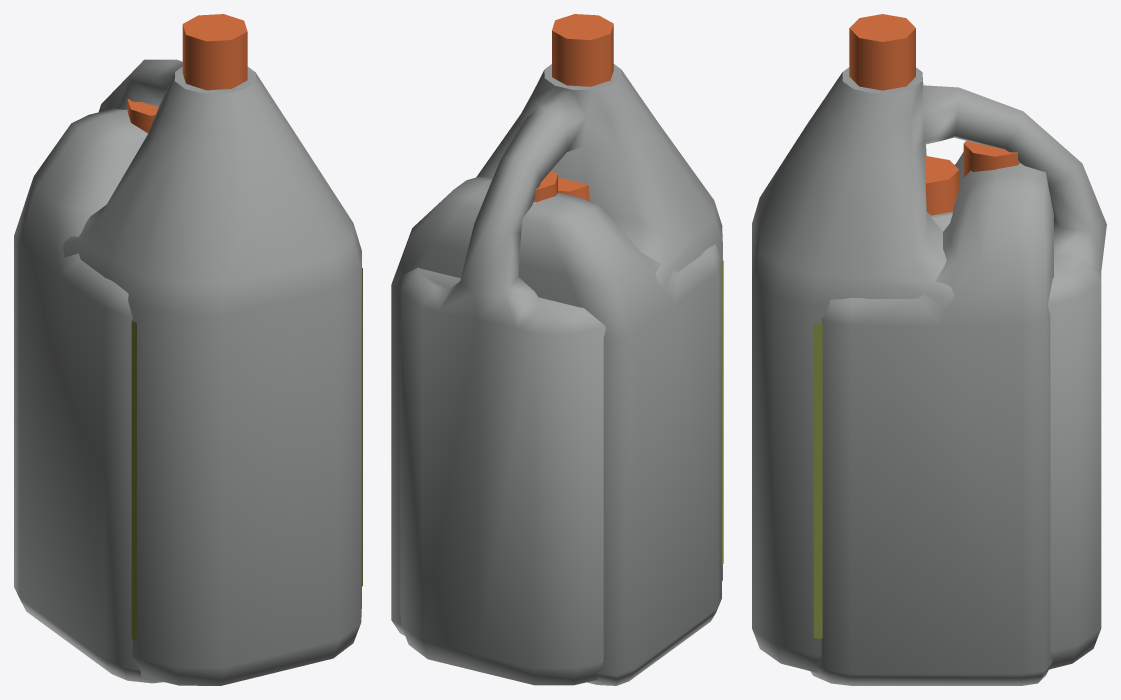
Rendered from Plastic Bottles.fbx.
3 views of the same model, side by side, from view 1: azimuth 30°, elevation 25°; view 2: azimuth 150°, elevation 25°; view 3: azimuth 270°, elevation 25° (orthographic). The views are drawn at different scales.
Visible parts, largest first — view 1: BottlePlastic1_plastic_0, BottlePlastic5_plastic_0, BottlePlastic4_plastic_0; view 2: BottlePlastic1_plastic_0, BottlePlastic5_plastic_0; view 3: BottlePlastic5_plastic_0, BottlePlastic1_plastic_0, BottlePlastic3_plastic_0, BottlePlastic4_plastic_0.
Boxes of the visible parts, x1,y1,x2,y2 form: BottlePlastic1_plastic_0: [63, 14, 362, 685]; BottlePlastic5_plastic_0: [14, 108, 163, 683]; BottlePlastic4_plastic_0: [127, 99, 158, 133]; BottlePlastic1_plastic_0: [400, 14, 723, 685]; BottlePlastic5_plastic_0: [391, 176, 721, 685]; BottlePlastic5_plastic_0: [810, 152, 1053, 685]; BottlePlastic1_plastic_0: [752, 14, 1106, 672]; BottlePlastic3_plastic_0: [925, 156, 960, 231]; BottlePlastic4_plastic_0: [963, 141, 1019, 177].
Bounding box in the file's own units: 18.25 × 42.08 × 22.54.
